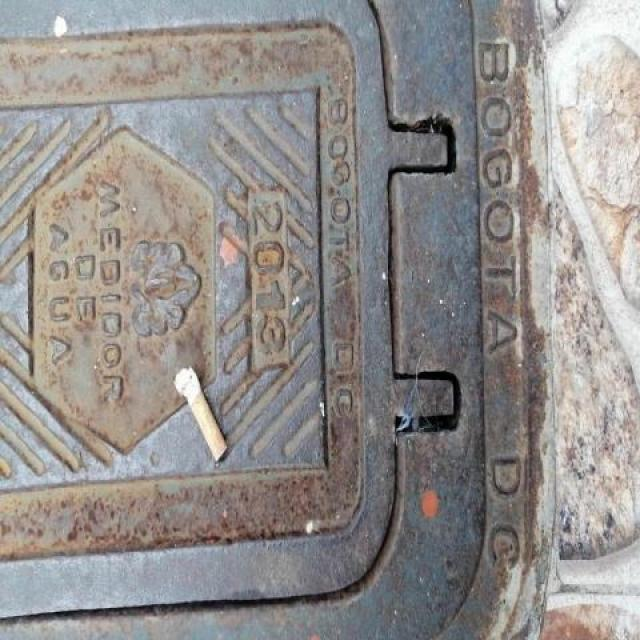non-organic waste: (168, 360, 232, 468)
